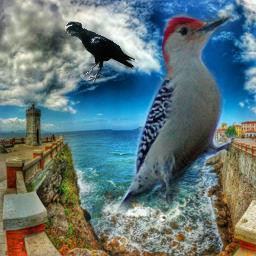Crow: (64, 21, 135, 82)
Woodpecker: (116, 12, 236, 211)
